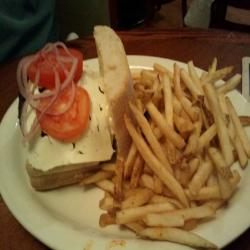burger: (10, 28, 135, 191)
fries: (123, 64, 238, 229)
